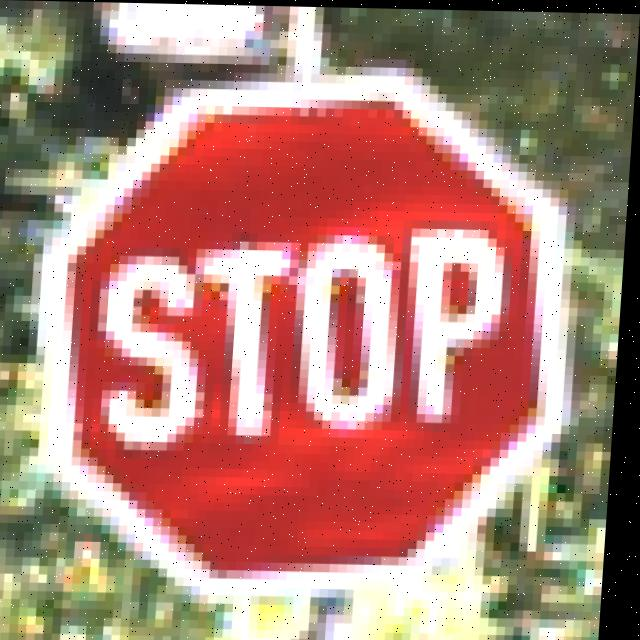stop: (7, 58, 604, 587)
